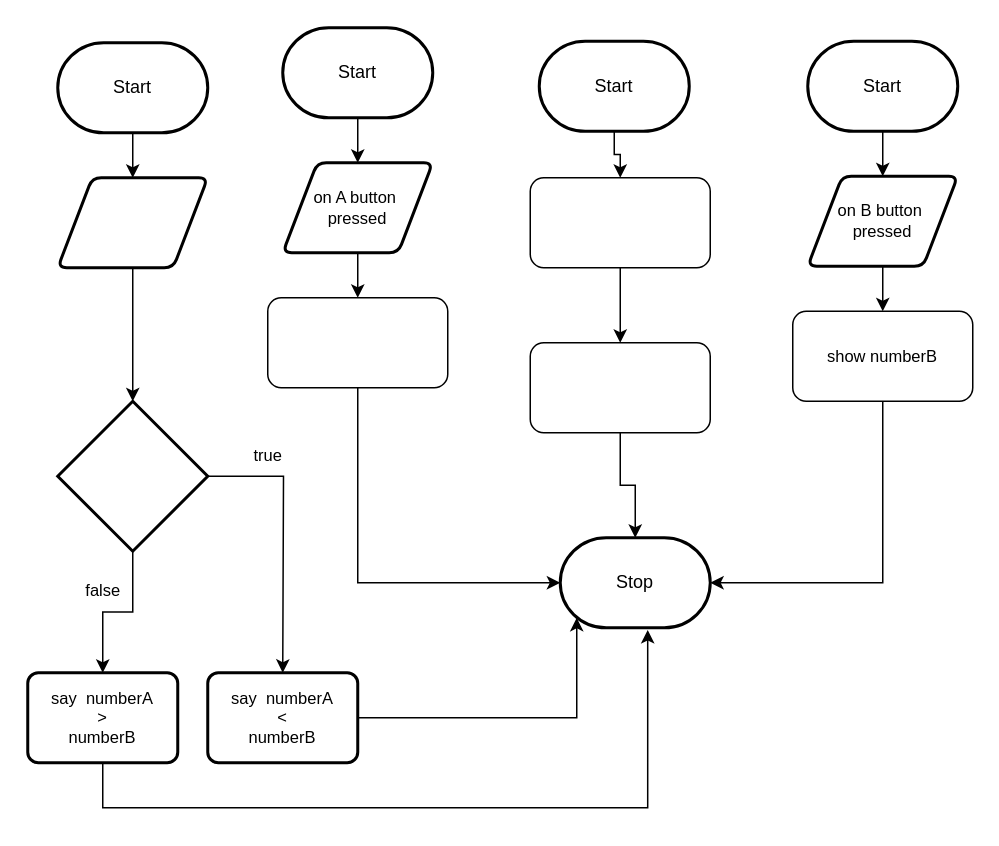
Some shapes in this 999 by 846 pixel diagram are drawn without their labels. Each missing label, with the centre of its shape:
"generate number from 0-99 call it numberA" belongs at (619,222).
"generate number from 0-99 call it numberB" belongs at (619,387).
"if numberA < numberB" belongs at (132,475).
"on shake" belongs at (132,222).
"show numberA" belongs at (357,342).
